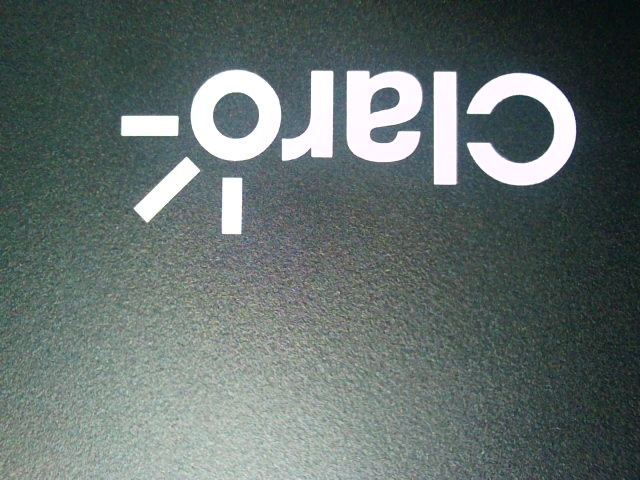BC_Claor: (116, 50, 586, 242)
